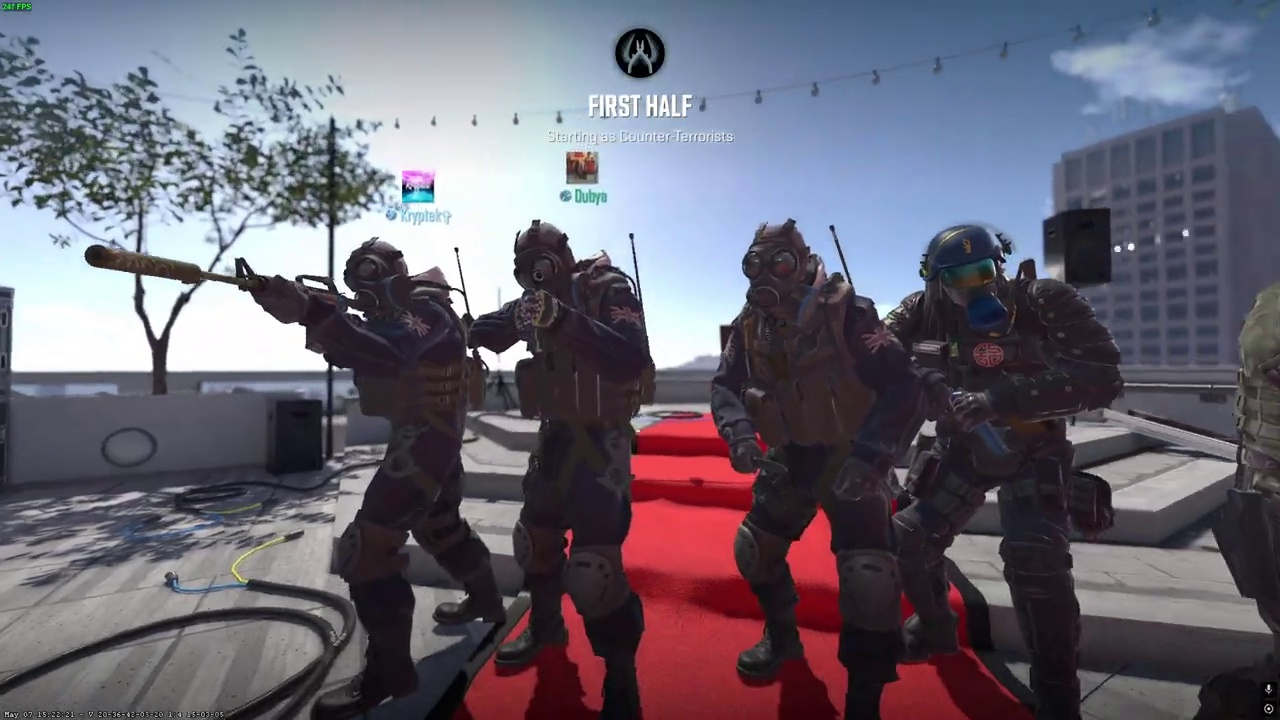CT: (882, 225, 1127, 720), (708, 220, 905, 719), (303, 234, 504, 707), (487, 217, 655, 720), (1197, 235, 1280, 720)
